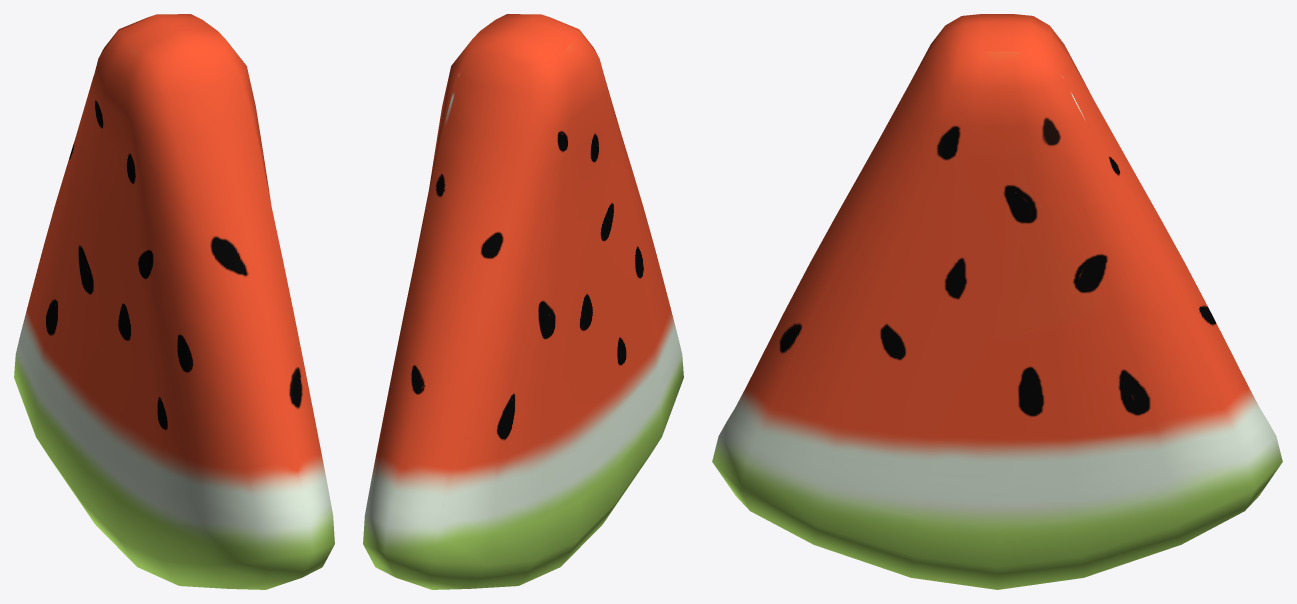
The model's file is sandia uv.fbx.
The picture shows the model from 3 angles, left to right: view 1: azimuth 30°, elevation 25°; view 2: azimuth 150°, elevation 25°; view 3: azimuth 270°, elevation 25°; orthographic projection. The views are drawn at different scales.
Visible parts, largest first — view 1: Cubo.001; view 2: Cubo.001; view 3: Cubo.001.
Boxes of the visible parts, x1=… form: Cubo.001: x1=14, y1=14, x2=334, y2=589; Cubo.001: x1=363, y1=14, x2=683, y2=589; Cubo.001: x1=712, y1=14, x2=1282, y2=589.
Size of the model in its own units: 262 by 1200 by 1111.
